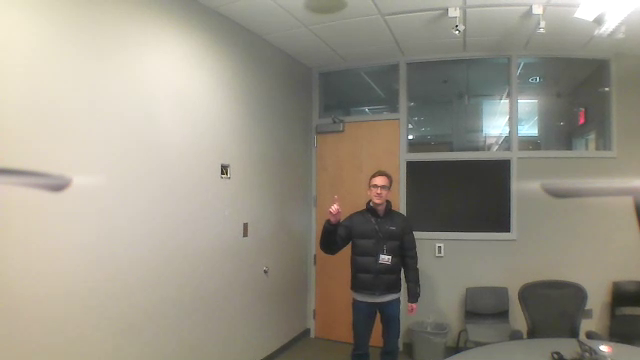up: (326, 194, 349, 226)
